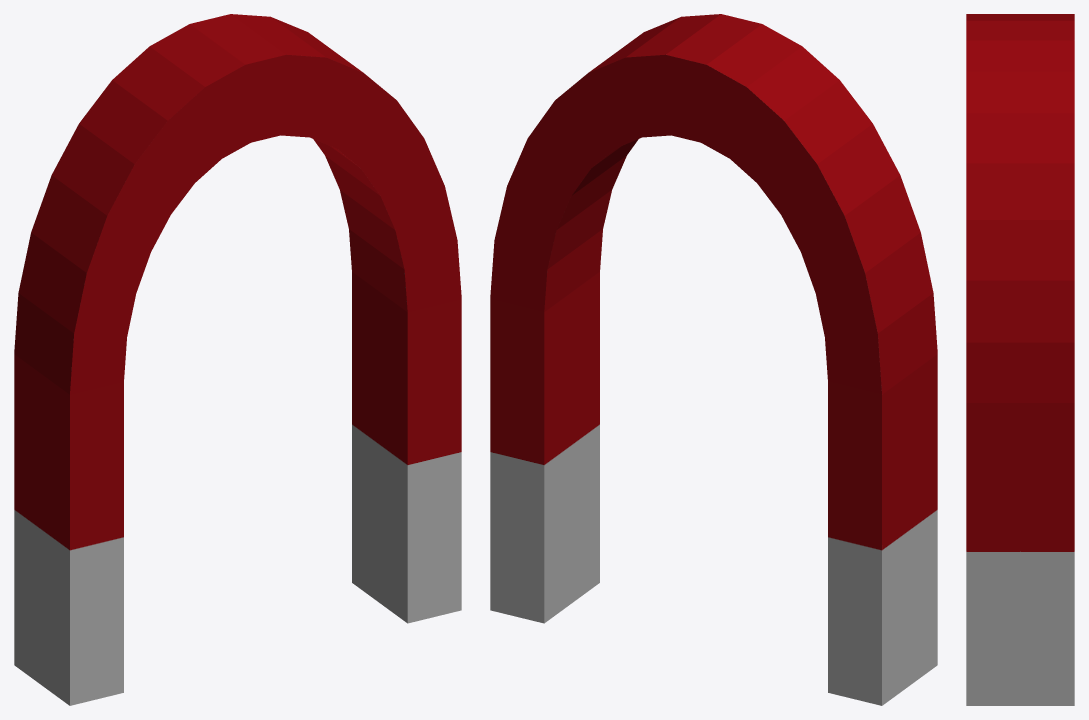
The model's file is Magnet.fbx.
3 views of the same model, side by side, from view 1: azimuth 30°, elevation 25°; view 2: azimuth 150°, elevation 25°; view 3: azimuth 270°, elevation 25° (orthographic). The views are drawn at different scales.
Visible parts, largest first — view 1: Cube.006; view 2: Cube.006; view 3: Cube.006.
Boxes of the visible parts, x1,y1,x2,y2 form: Cube.006: (14, 14, 461, 705); Cube.006: (490, 14, 937, 705); Cube.006: (966, 14, 1074, 705).
Size of the model in its own units: 69.1 by 101 by 17.02.
Materials: 1 (1 with a texture image).
